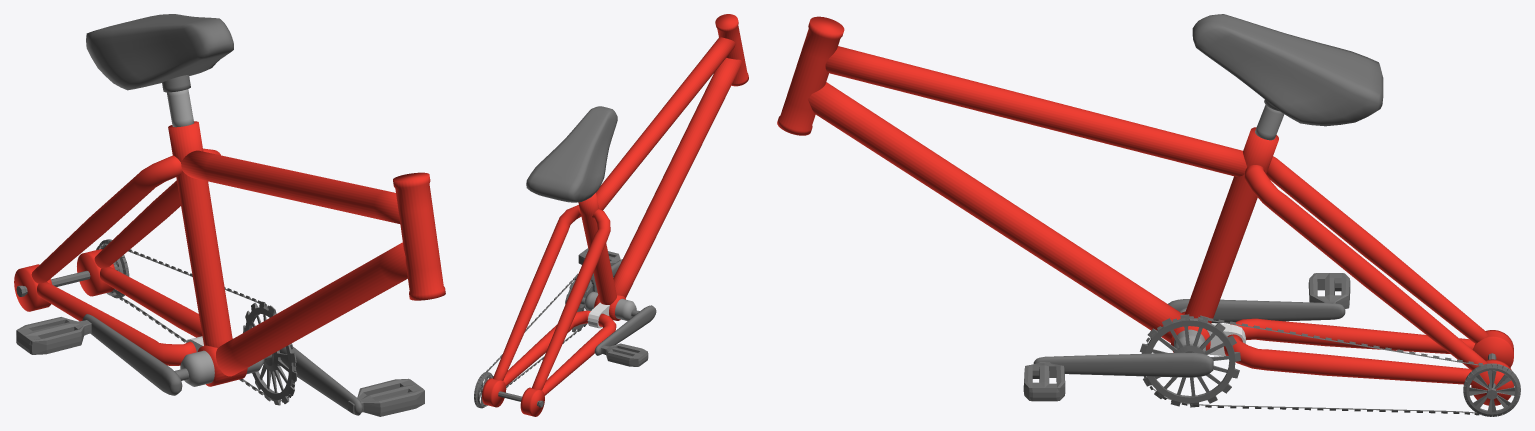
3 renders of one model, left to right at view 1: azimuth 30°, elevation 25°; view 2: azimuth 150°, elevation 25°; view 3: azimuth 270°, elevation 25°, orthographic. The views are drawn at different scales.
Parts seen in each view (by area): view 1: Cylinder.021, Cube.015, Cylinder.005, Cylinder.004, Cube.009, Cube.002, Cube.010, Cylinder.003, Cube.011, Circle.001, Cylinder.002, Circle.002 (+3 smaller); view 2: Cylinder.021, Cube.015, Cylinder.005, Cylinder.004, Cylinder.003, Cube.009, Cube.002, Cylinder.002, Plane.004, Cylinder.013, Cube.012; view 3: Cylinder.021, Cube.015, Cylinder.005, Cylinder.004, Cube.011, Cube.009, Circle.001, Cylinder.013, Plane.004, Cylinder.003, Cube.010, Circle.002 (+2 smaller).
Boxes of the visible parts, x1=… form: Cylinder.021: x1=168, y1=121, x2=445, y2=386; Cube.015: x1=86, y1=14, x2=233, y2=90; Cylinder.005: x1=31, y1=148, x2=220, y2=283; Cylinder.004: x1=37, y1=266, x2=202, y2=365; Cube.009: x1=82, y1=314, x2=182, y2=395; Cube.002: x1=16, y1=317, x2=91, y2=354; Cube.010: x1=348, y1=378, x2=424, y2=416; Cylinder.003: x1=14, y1=249, x2=114, y2=311; Cube.011: x1=279, y1=347, x2=362, y2=415; Circle.001: x1=243, y1=301, x2=297, y2=405; Cylinder.002: x1=180, y1=350, x2=264, y2=386; Circle.002: x1=175, y1=314, x2=288, y2=393; Cylinder.021: x1=578, y1=14, x2=748, y2=320; Cube.015: x1=526, y1=106, x2=617, y2=202; Cylinder.005: x1=493, y1=205, x2=610, y2=390; Cylinder.004: x1=503, y1=310, x2=616, y2=395; Cylinder.003: x1=482, y1=378, x2=544, y2=416; Cube.009: x1=594, y1=305, x2=656, y2=355; Cube.002: x1=601, y1=343, x2=648, y2=366; Cylinder.002: x1=584, y1=291, x2=636, y2=320; Plane.004: x1=475, y1=277, x2=583, y2=405; Cylinder.013: x1=474, y1=372, x2=493, y2=408; Cube.012: x1=587, y1=302, x2=609, y2=328; Cylinder.021: x1=777, y1=16, x2=1278, y2=352; Cube.015: x1=1192, y1=14, x2=1383, y2=126; Cylinder.005: x1=1244, y1=156, x2=1488, y2=370; Cylinder.004: x1=1224, y1=318, x2=1474, y2=384; Cube.011: x1=1033, y1=352, x2=1213, y2=377; Cube.009: x1=1168, y1=299, x2=1345, y2=323; Circle.001: x1=1140, y1=314, x2=1240, y2=407; Cylinder.013: x1=1463, y1=363, x2=1520, y2=416; Plane.004: x1=1141, y1=316, x2=1497, y2=415; Cylinder.003: x1=1471, y1=330, x2=1513, y2=405; Cube.010: x1=1023, y1=362, x2=1065, y2=401; Circle.002: x1=1152, y1=326, x2=1228, y2=396.
Bounding box in the file's own units: 1.96 × 5.32 × 2.95.
